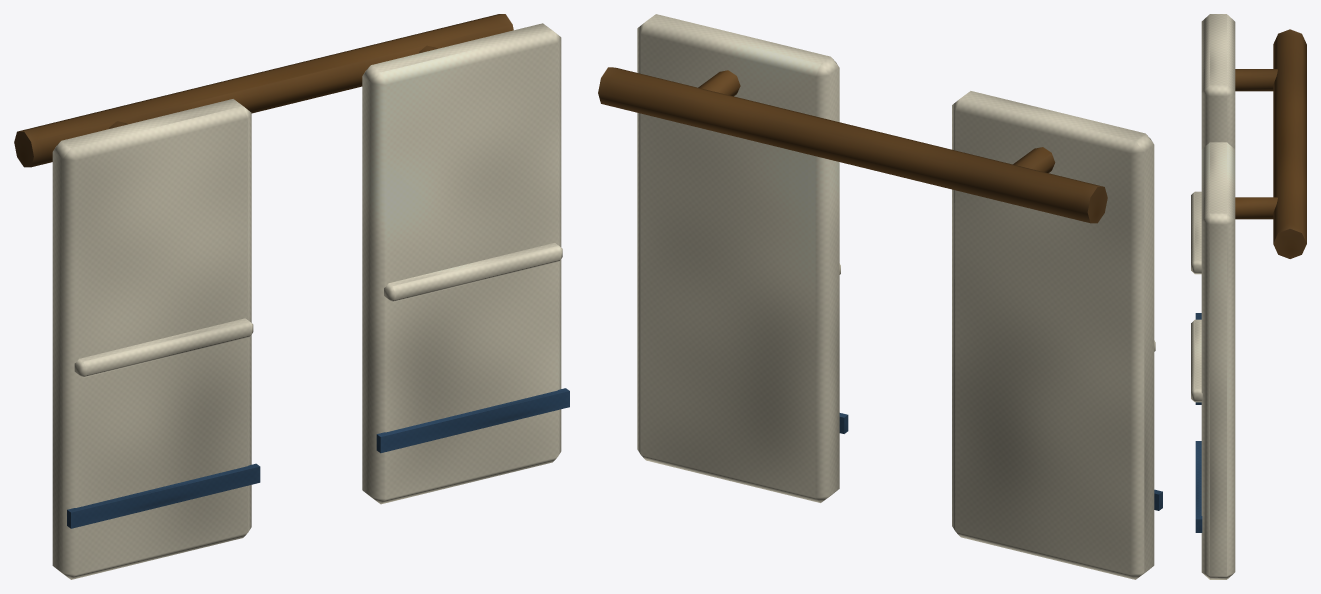
Rendered from Furn_Bath_TowelHook.fbx.
3 views of the same model, side by side, from view 1: azimuth 30°, elevation 25°; view 2: azimuth 150°, elevation 25°; view 3: azimuth 270°, elevation 25° (orthographic). The views are drawn at different scales.
Visible parts, largest first — view 1: Furn_Bath_TowelHook; view 2: Furn_Bath_TowelHook; view 3: Furn_Bath_TowelHook.
Boxes of the visible parts, x1,y1,x2,y2 form: Furn_Bath_TowelHook: [14, 14, 569, 579]; Furn_Bath_TowelHook: [598, 14, 1162, 579]; Furn_Bath_TowelHook: [1191, 14, 1306, 579].
Size of the model in its own units: 0.58 by 0.48 by 0.1375.
Materials: 3 (3 with a texture image).
